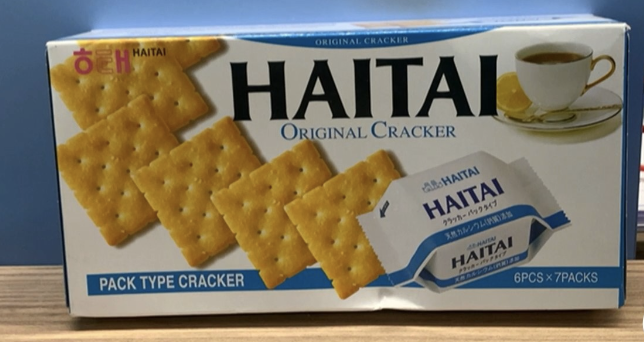crackers_200g-299g: (72, 44, 619, 289)
